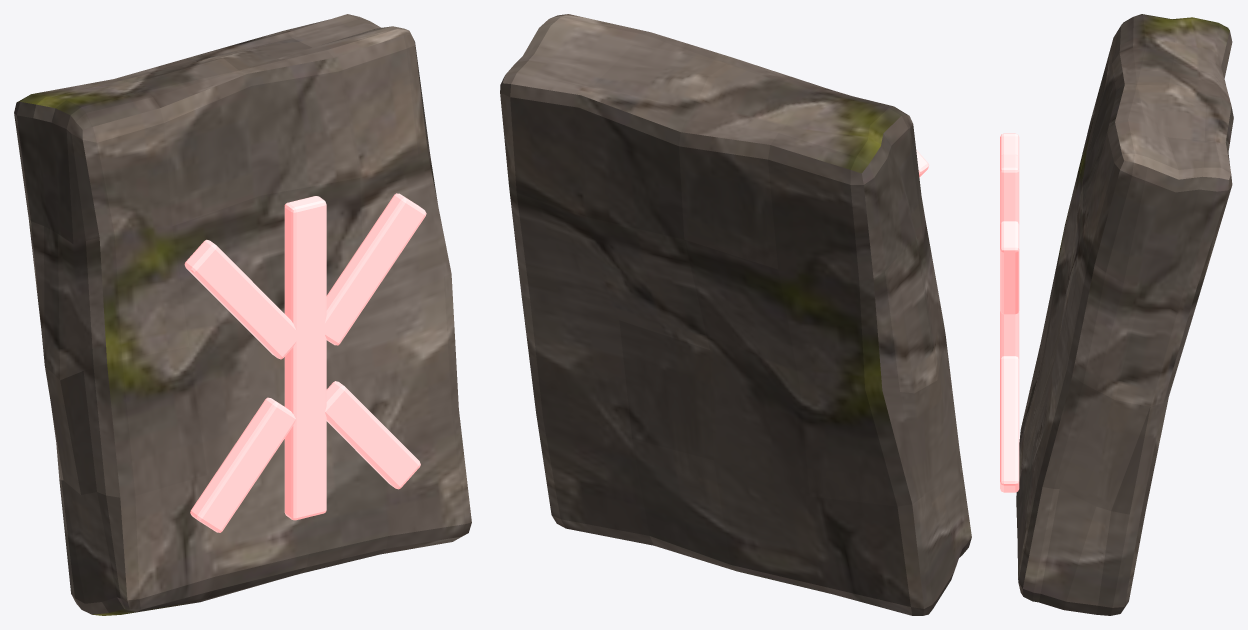
Rendered from rune_crimson.glb.
3 renders of one model, left to right at view 1: azimuth 30°, elevation 25°; view 2: azimuth 150°, elevation 25°; view 3: azimuth 270°, elevation 25°, orthographic. The views are drawn at different scales.
Visible parts, largest first — view 1: model; view 2: model; view 3: model.
Part boxes in pixels (x1,y1,x2,y2): model: (14, 14, 471, 615); model: (500, 14, 971, 615); model: (1000, 14, 1233, 615).
Size of the model in its own units: 0.211 by 0.2684 by 0.1219.
2 materials, 1 textured.
